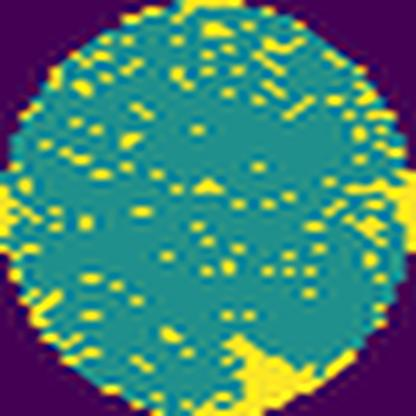Edge-Loc: (186, 331, 363, 416), (339, 162, 415, 260)
